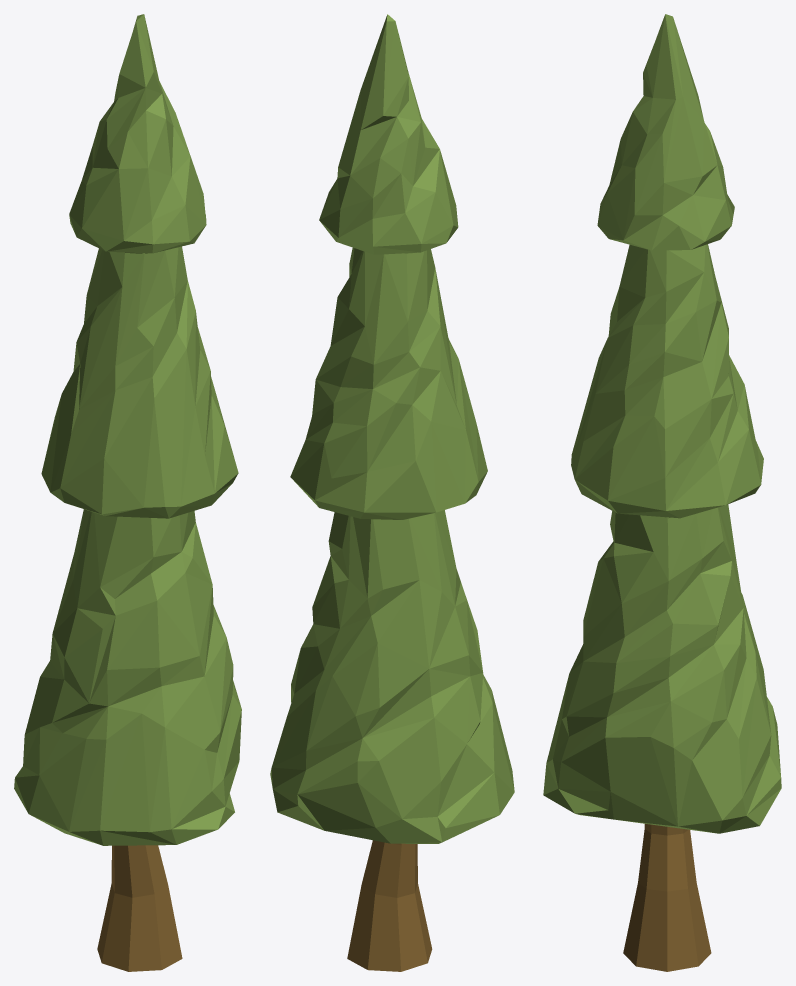
File: furry.fbx
The picture shows the model from 3 angles, left to right: view 1: azimuth 30°, elevation 25°; view 2: azimuth 150°, elevation 25°; view 3: azimuth 270°, elevation 25°; orthographic projection.
Parts seen in each view (by area): view 1: pCylinder1, pCylinder2; view 2: pCylinder1, pCylinder2; view 3: pCylinder1, pCylinder2.
Part boxes in pixels (bbox=[...]): pCylinder1: bbox=[14, 14, 241, 845]; pCylinder2: bbox=[97, 845, 182, 971]; pCylinder1: bbox=[270, 14, 514, 843]; pCylinder2: bbox=[347, 840, 432, 971]; pCylinder1: bbox=[543, 14, 781, 833]; pCylinder2: bbox=[623, 824, 711, 971].
Bounding box in the file's own units: 6.51 × 28.79 × 6.61.
